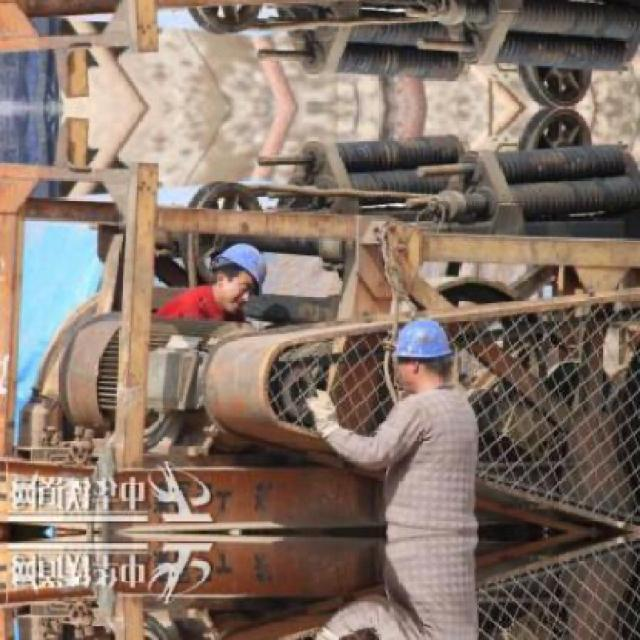helmet: (392, 312, 457, 392), (205, 238, 272, 310)
